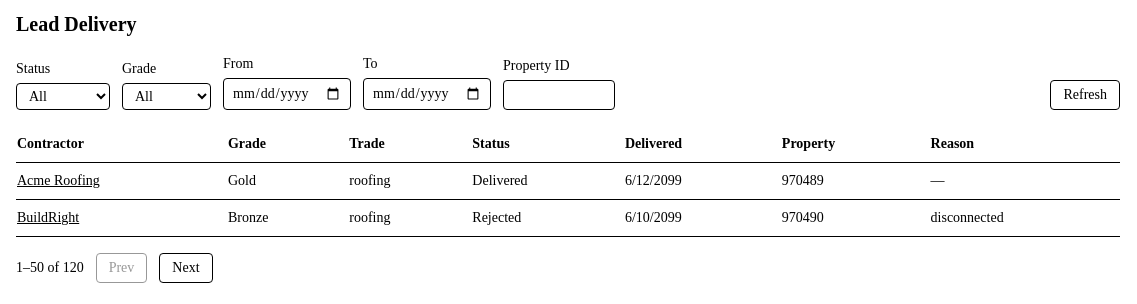
LeadDeliverySection — interaction › paginates: Next advances the offset and shows the range/count
Expected: the text "1–50 of 120" is shown, x1=16 y1=258 x2=84 y2=278
Click the button "Next" at x=186, y=268, box x1=159 y1=253 x2=212 y2=283
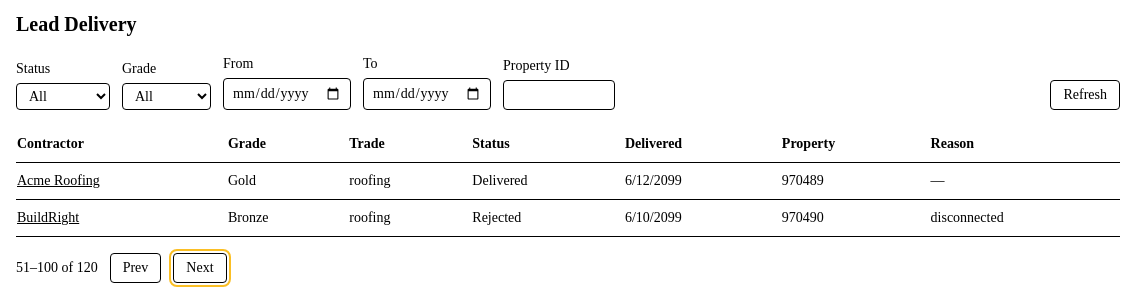
Expected: the text "51–100 of 120" is shown, x1=16 y1=258 x2=98 y2=278
